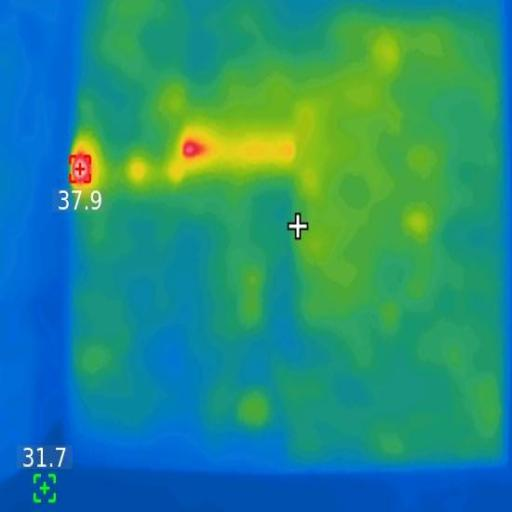hotspot: (182, 134, 210, 166), (68, 154, 94, 187)
